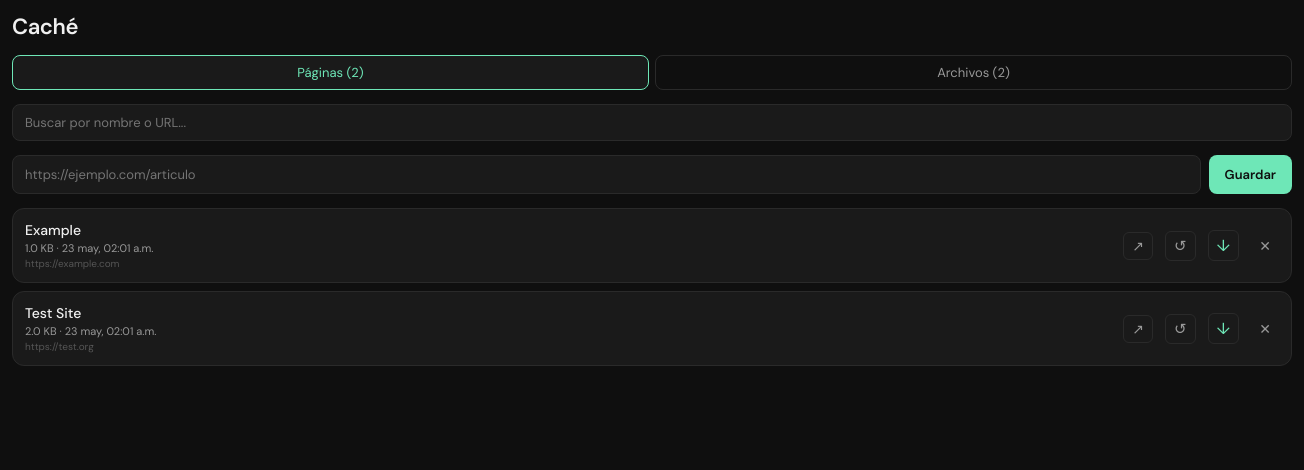
CachePage › el buscador filtra archivos por nombre
Click the button "Archivos (2)" at (974, 72), box [655,55,1292,90]
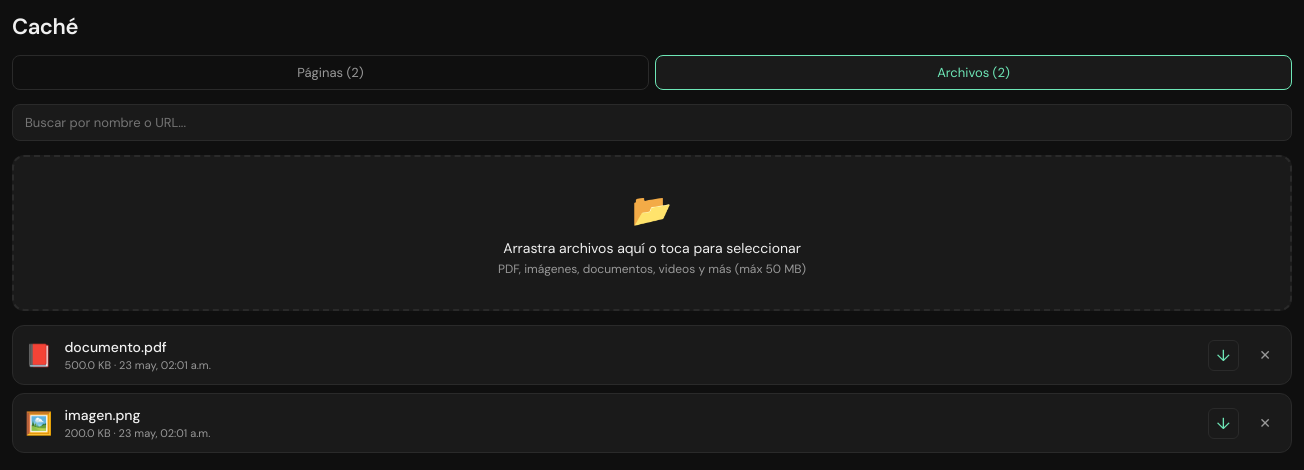
Type "pdf" into the field with placeholder "Buscar por nombre o URL..." at (652, 122), box [12,104,1292,141]
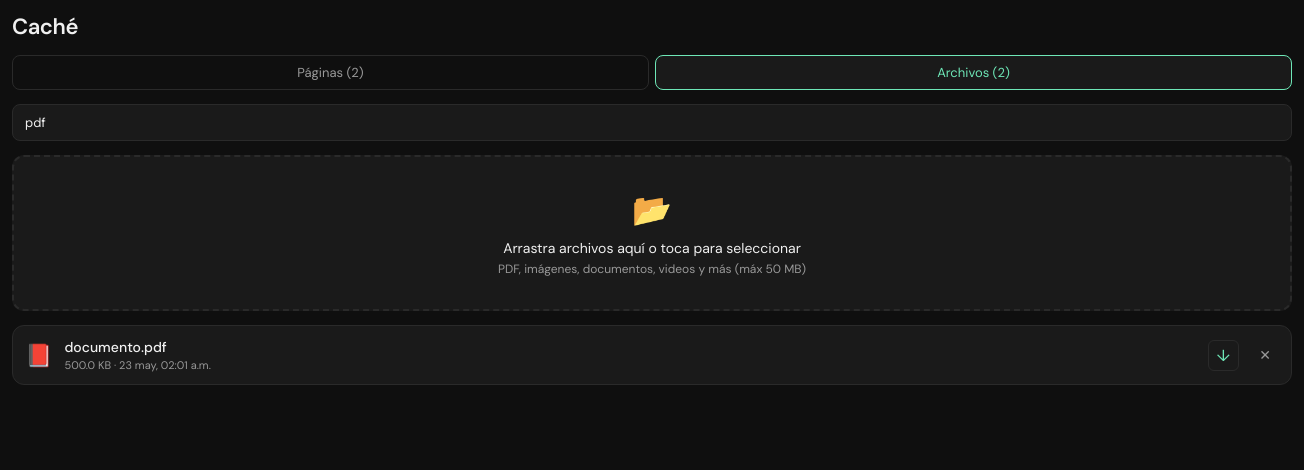
Now the text "documento.pdf" is shown, box [64,338,167,356]
Now the text "imagen.png" is gone
